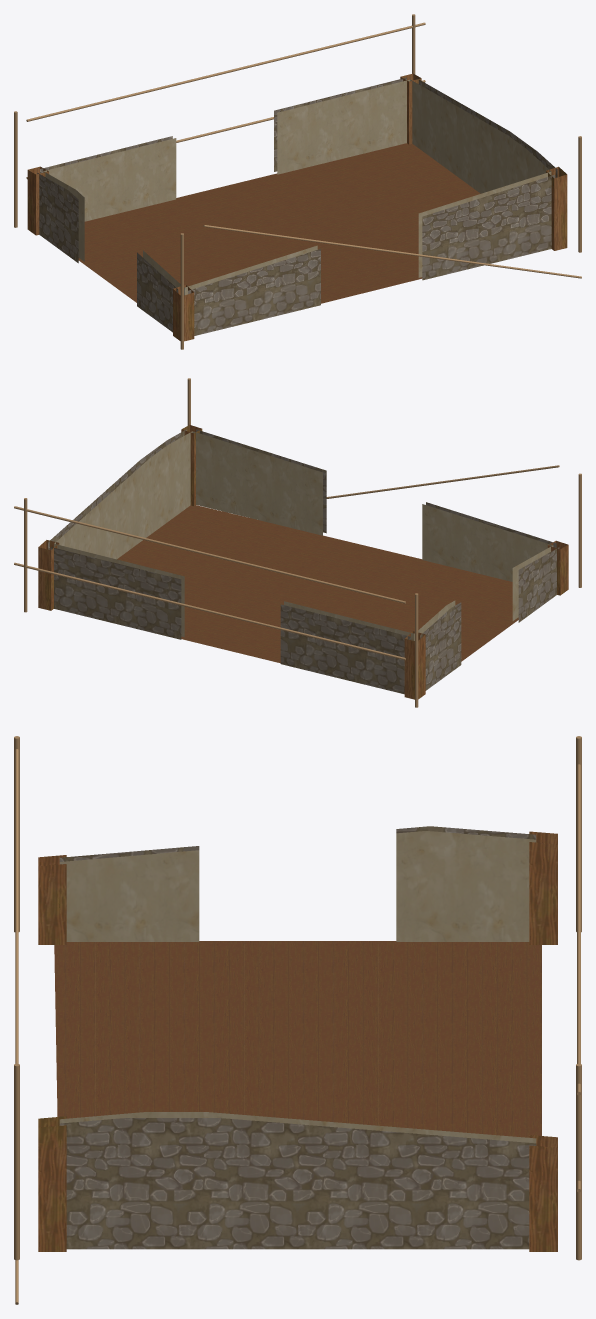
Rendered from Building6Whole_P2.glb.
3 views of the same model, one above another, from view 1: azimuth 30°, elevation 25°; view 2: azimuth 150°, elevation 25°; view 3: azimuth 270°, elevation 25° (orthographic). The views are drawn at different scales.
Visible parts, largest first — view 1: Building6Whole_P2; view 2: Building6Whole_P2; view 3: Building6Whole_P2.
Part boxes in pixels (left/top/right/bottom): Building6Whole_P2: left=14, top=14, right=581, bottom=349; Building6Whole_P2: left=14, top=378, right=581, bottom=707; Building6Whole_P2: left=14, top=736, right=581, bottom=1304.
Bounding box in the file's own units: 13.43 × 4.55 × 9.54.
Materials: 5 (4 with a texture image).
